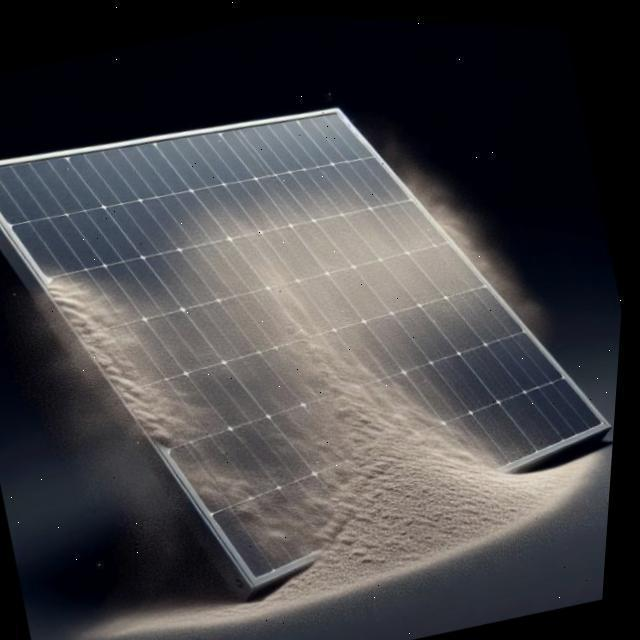Anomaly Solar Panel: (0, 104, 608, 582)
Surface Contaminant: (47, 97, 574, 613)
